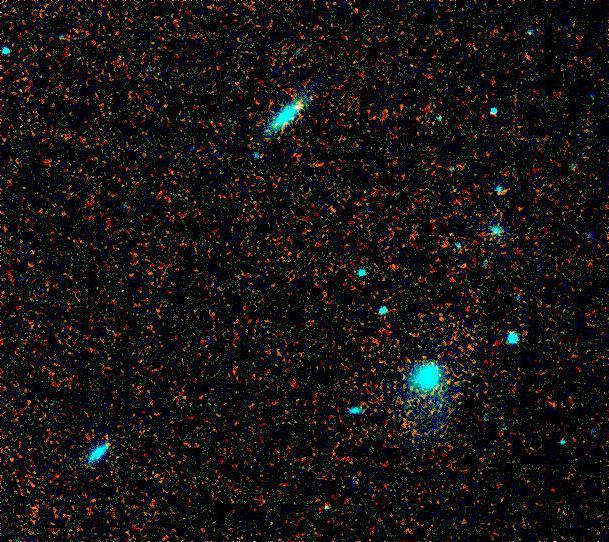star: (290, 87, 320, 117)
